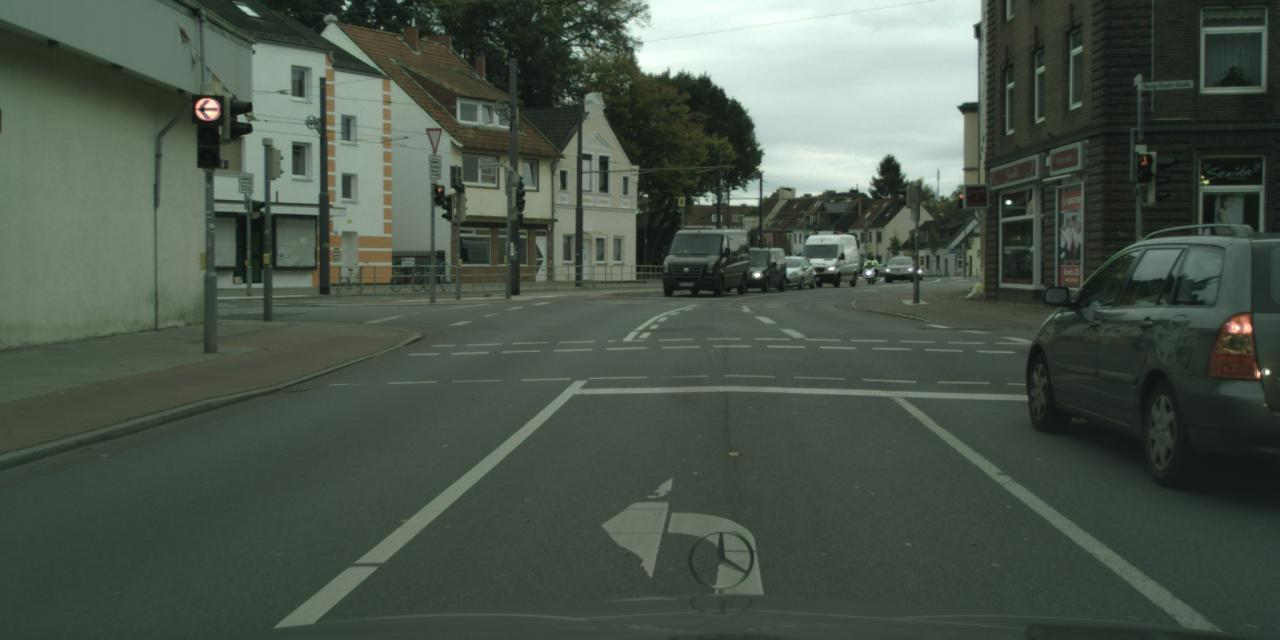ped: (866, 254, 876, 278)
